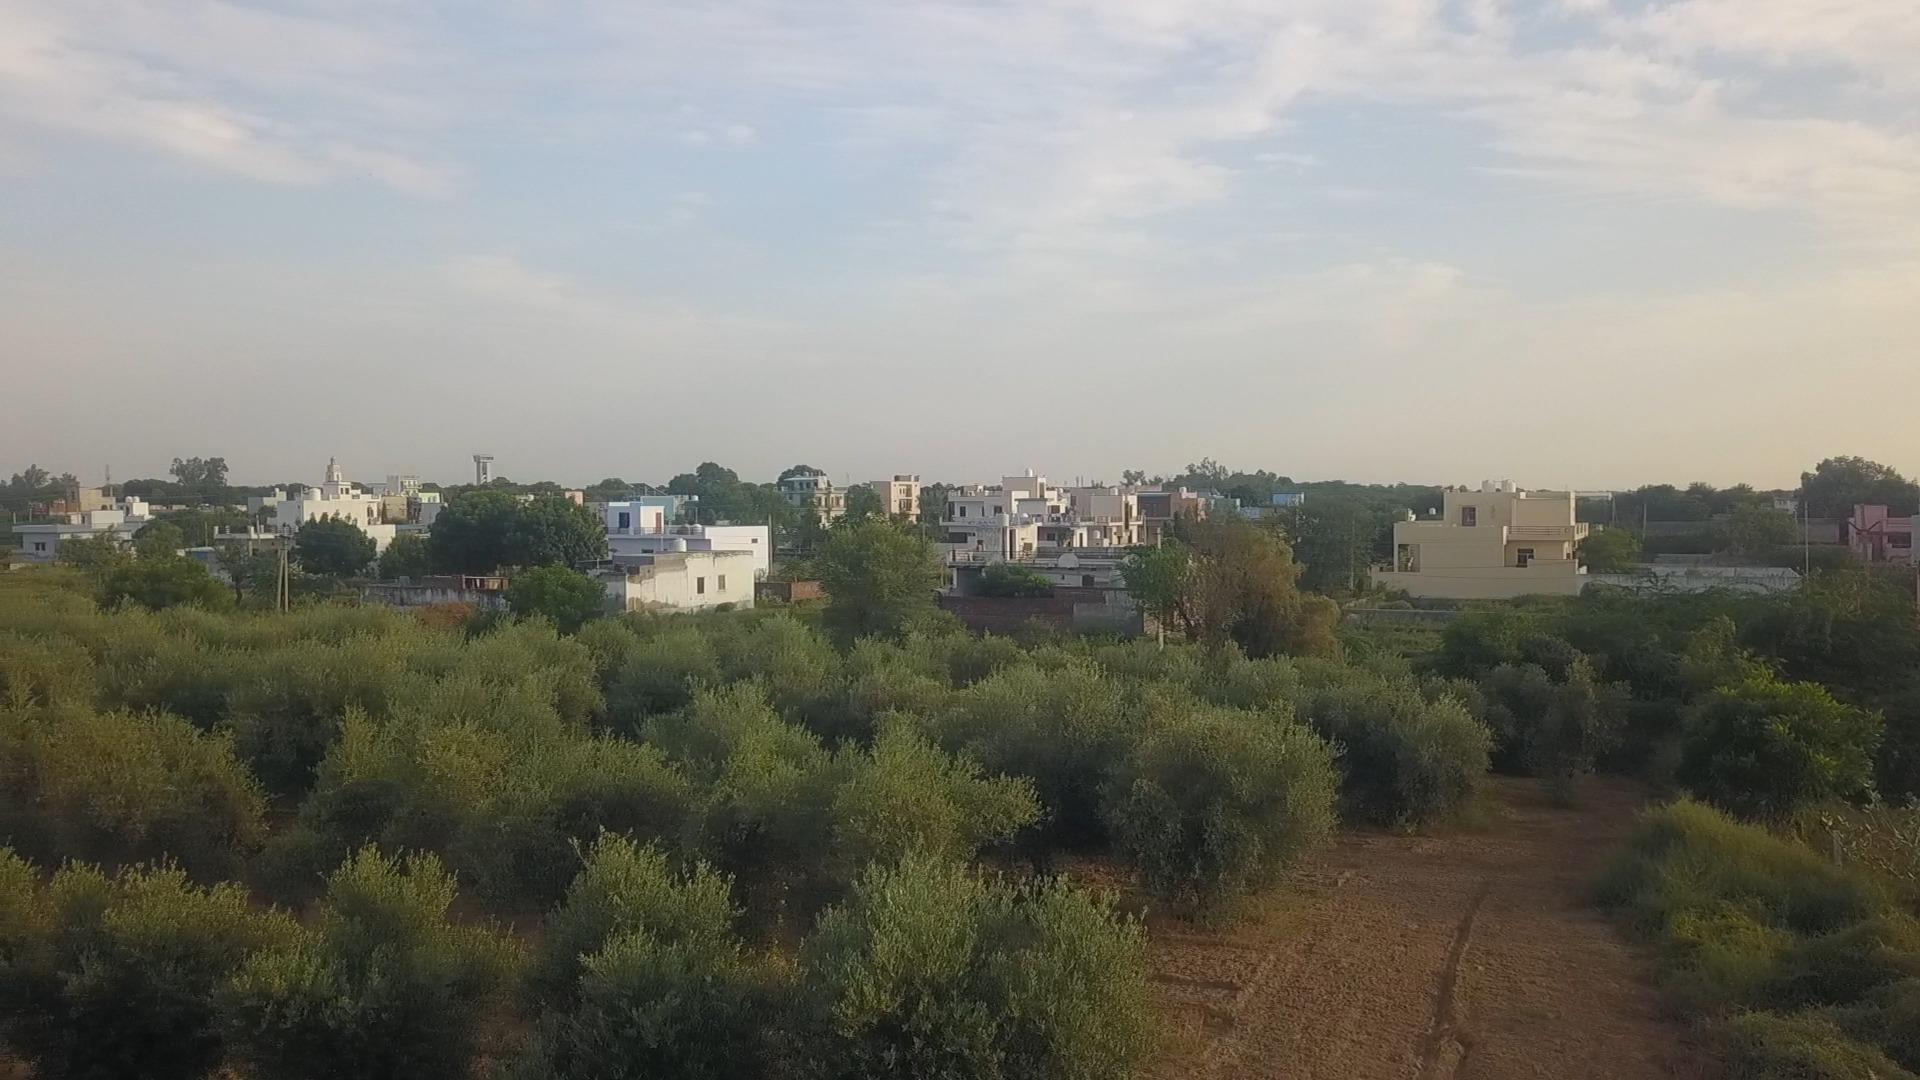canopy: (96, 605, 1338, 909), (0, 644, 1038, 935)
road: (1153, 778, 1710, 1079)
